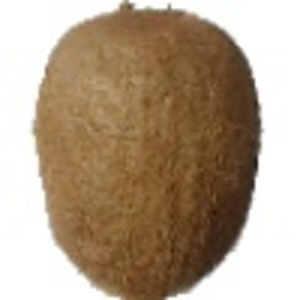kiwi: (31, 1, 263, 300)
